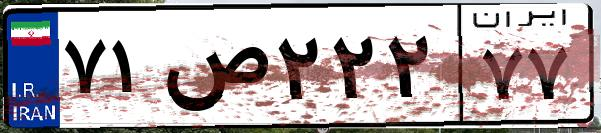1: (110, 28, 158, 98)
2: (270, 28, 330, 110), (385, 28, 445, 110), (330, 28, 385, 110)
7: (57, 26, 110, 100), (475, 38, 525, 113), (525, 38, 570, 115)
ص: (158, 20, 270, 120)
